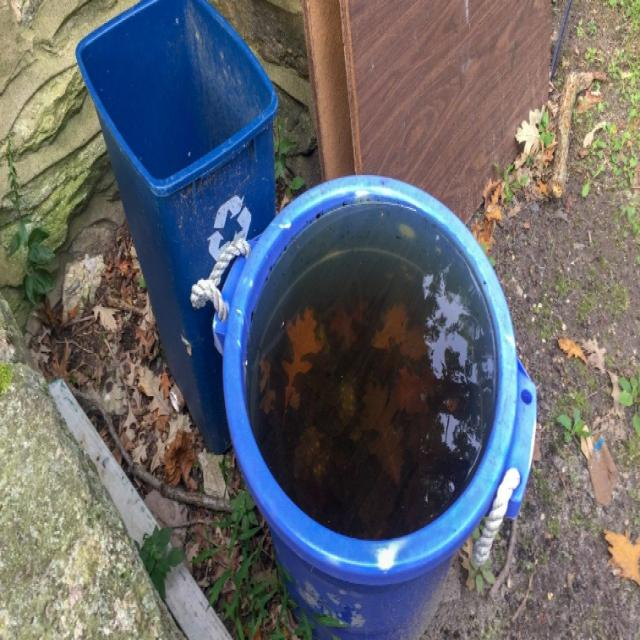Breeding Place: (204, 157, 541, 631), (43, 0, 326, 462)
